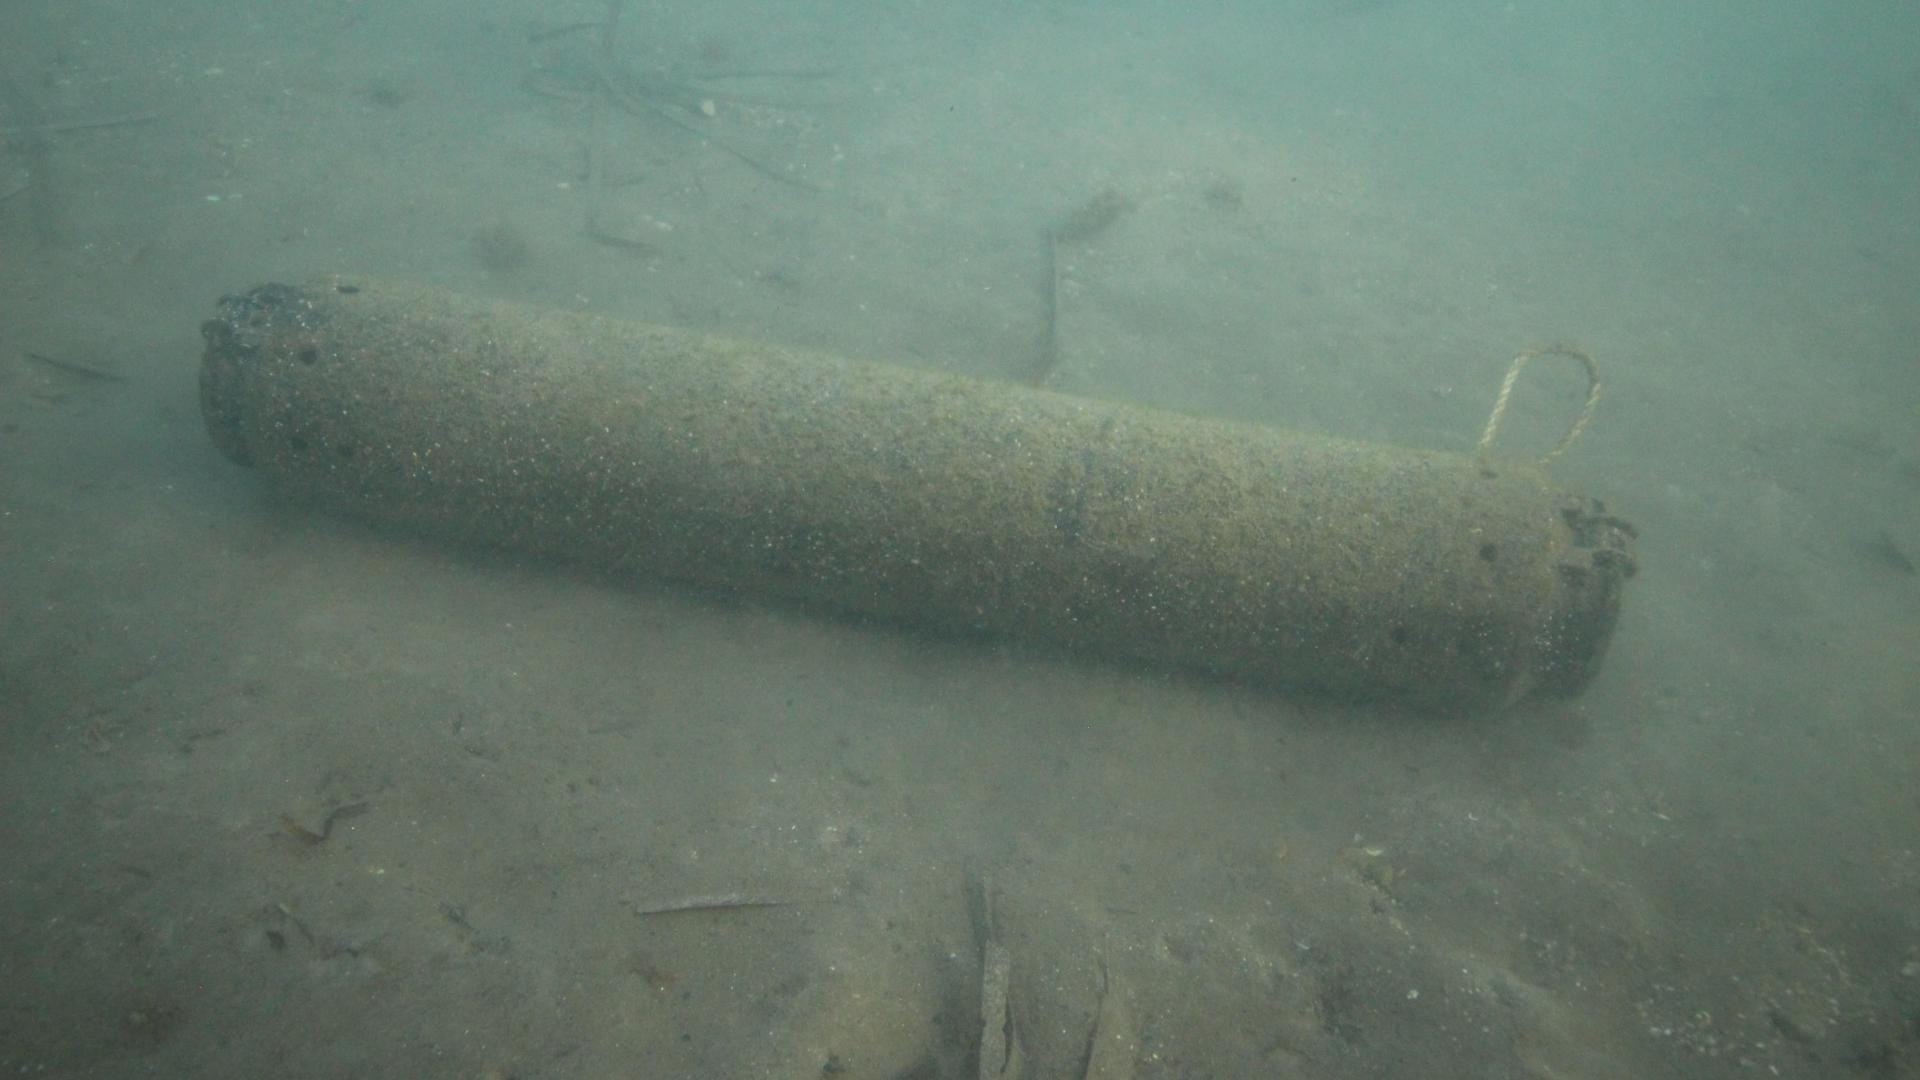eel fish trap: (193, 273, 1648, 719)
rope: (1476, 338, 1602, 462)
